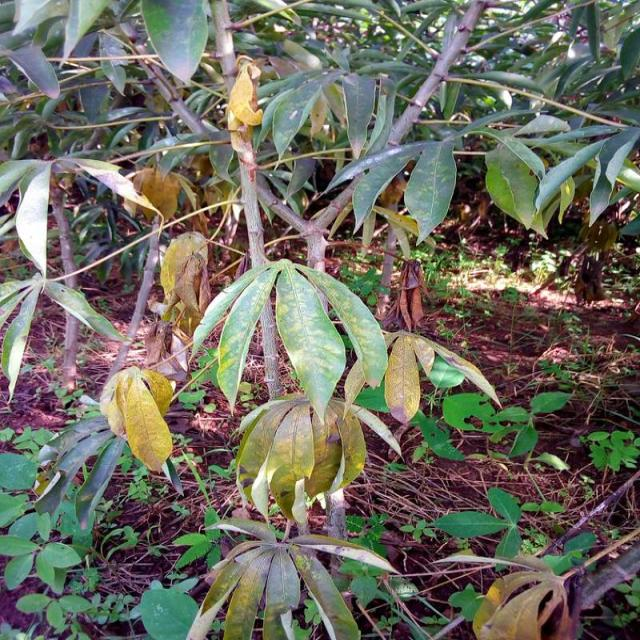cassava leaf: (191, 256, 388, 422), (274, 262, 346, 422), (403, 136, 457, 246)
